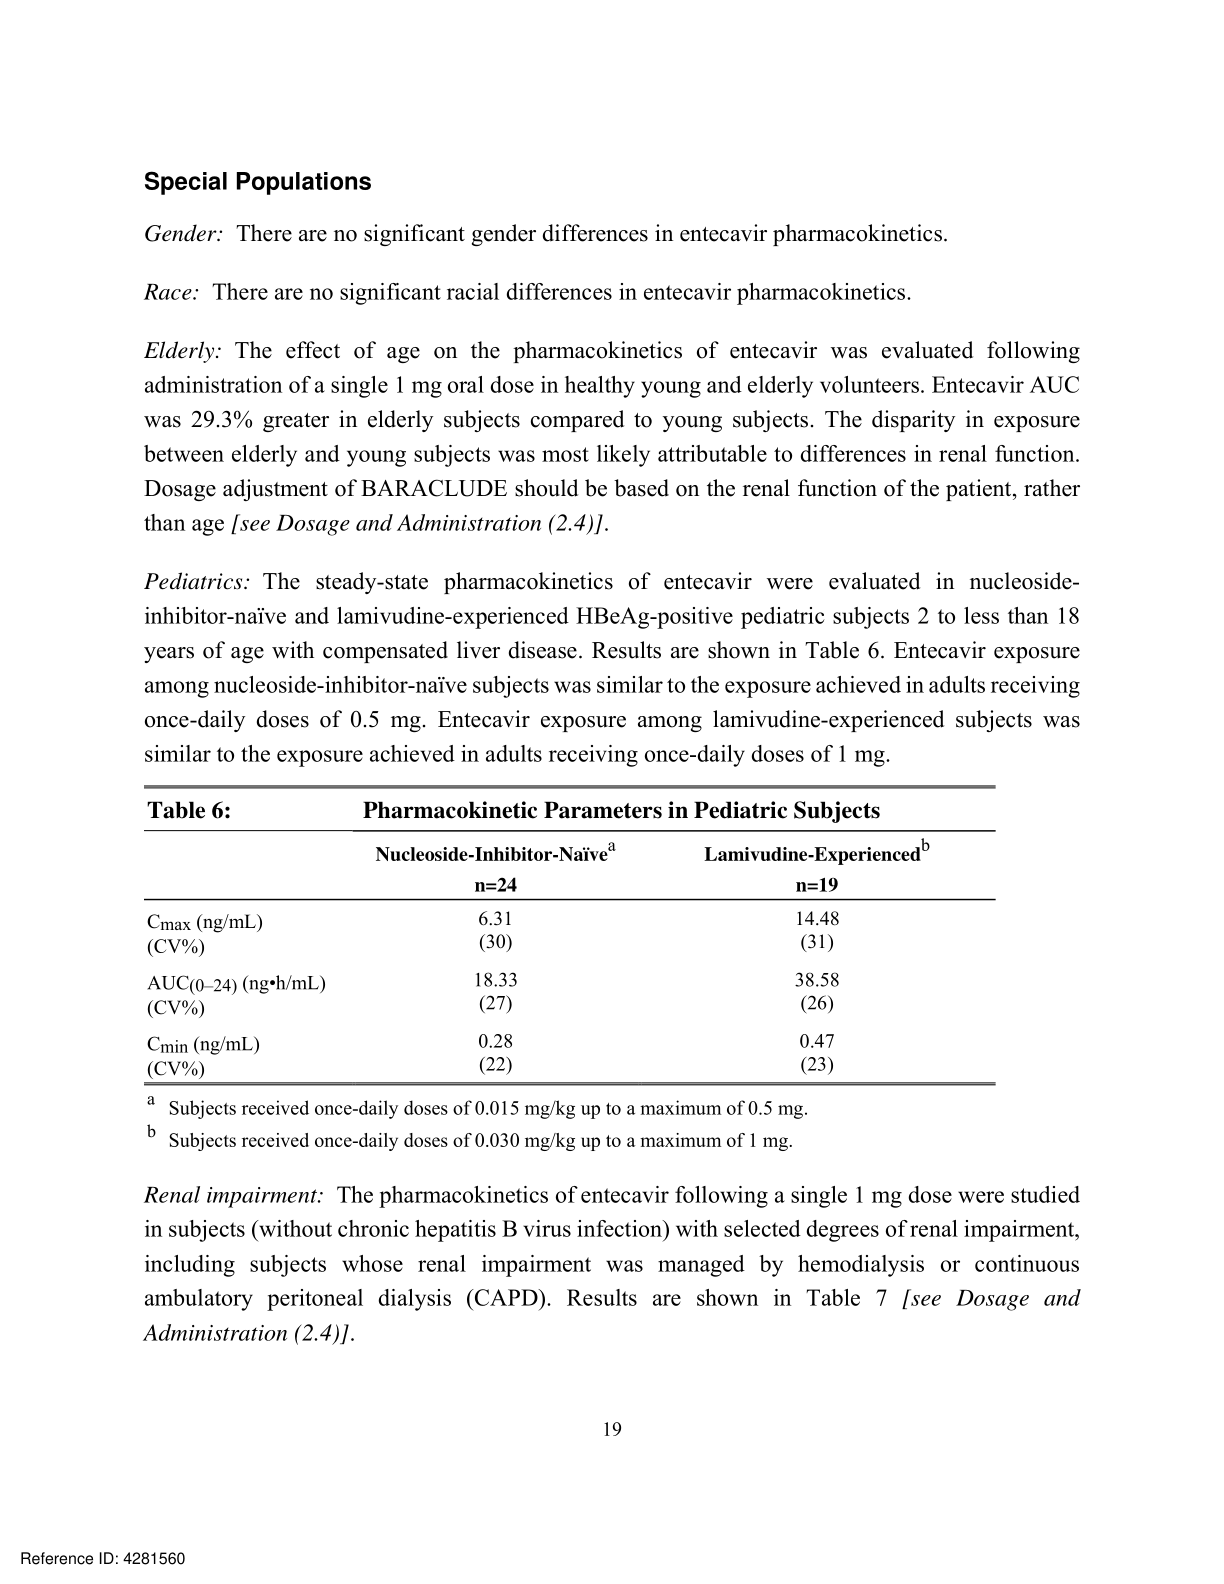partial_lined_merged_cells: (141, 784, 996, 1086)
